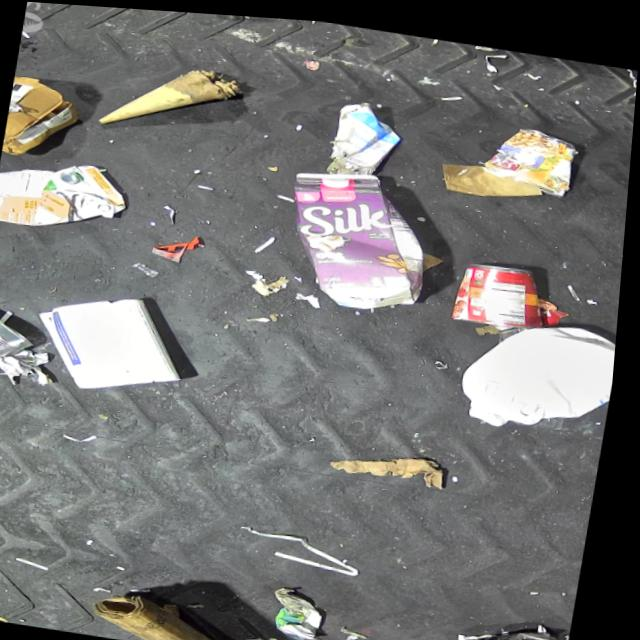can: (452, 249, 556, 324), (481, 113, 581, 190), (0, 303, 45, 380), (284, 633, 377, 640)
milk_jug: (458, 301, 622, 434)
non_white_jug: (278, 158, 446, 310), (0, 151, 138, 240)
